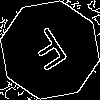F: (25, 25, 76, 80)
